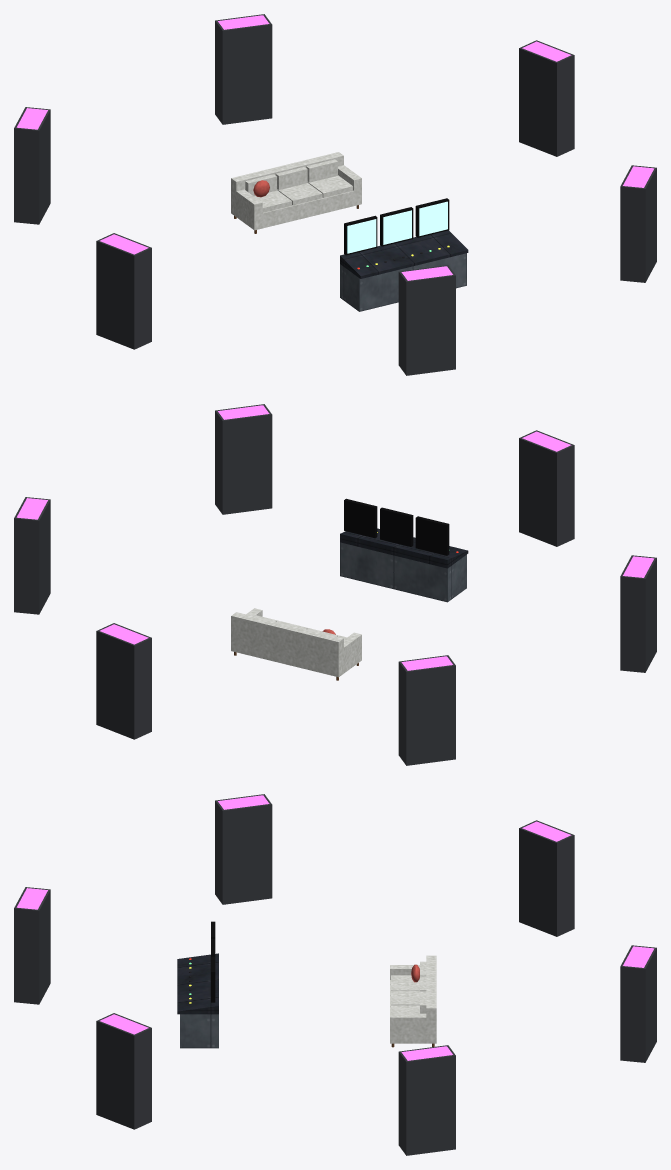
The model's file is i_space_colony_dome.gltf.
3 views of the same model, one above another, from view 1: azimuth 30°, elevation 25°; view 2: azimuth 150°, elevation 25°; view 3: azimuth 270°, elevation 25° (orthographic).
Visible parts, largest first — view 1: I_space_colony_dome; view 2: I_space_colony_dome; view 3: I_space_colony_dome.
Part boxes in pixels (left/top/right/bottom): I_space_colony_dome: left=14, top=14, right=656, bottom=375; I_space_colony_dome: left=14, top=404, right=656, bottom=765; I_space_colony_dome: left=14, top=794, right=656, bottom=1155.
Bounding box in the file's own units: 12.24 × 2 × 12.41.
15 materials, 5 textured.
